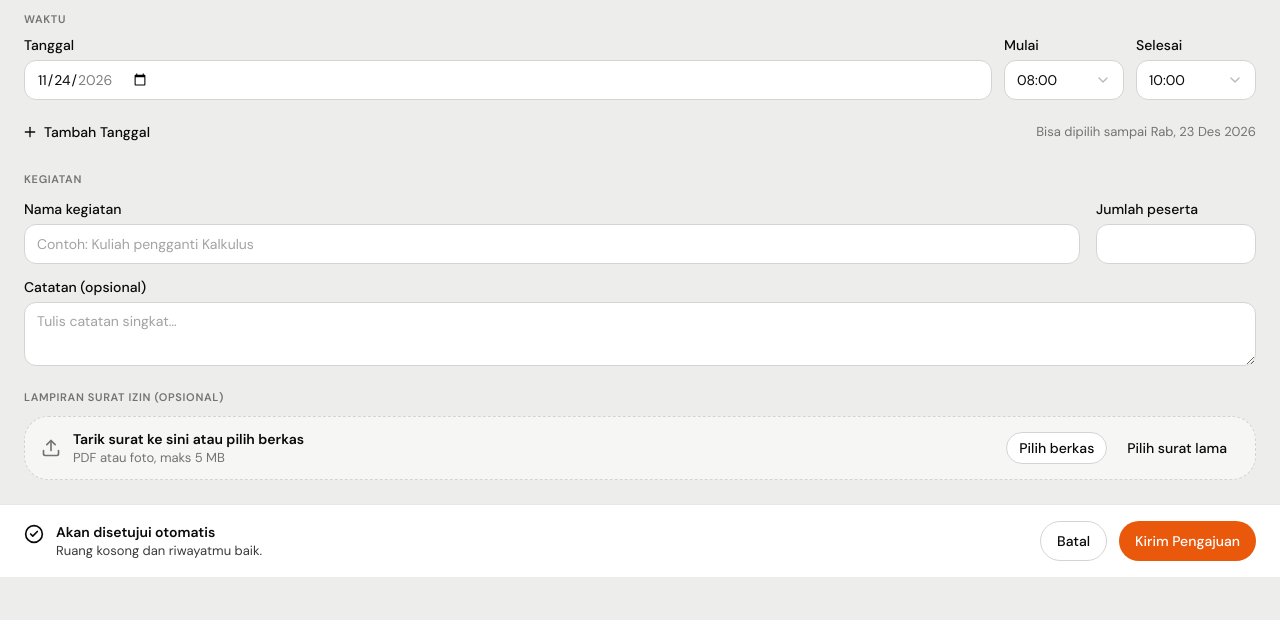
Scenario: RequestForm › sending › explains a 409 conflict with the room and the clashing time
In the field labelled "Nama kegiatan": (552, 244) [24,224,1080,264], type "Kuliah pengganti"
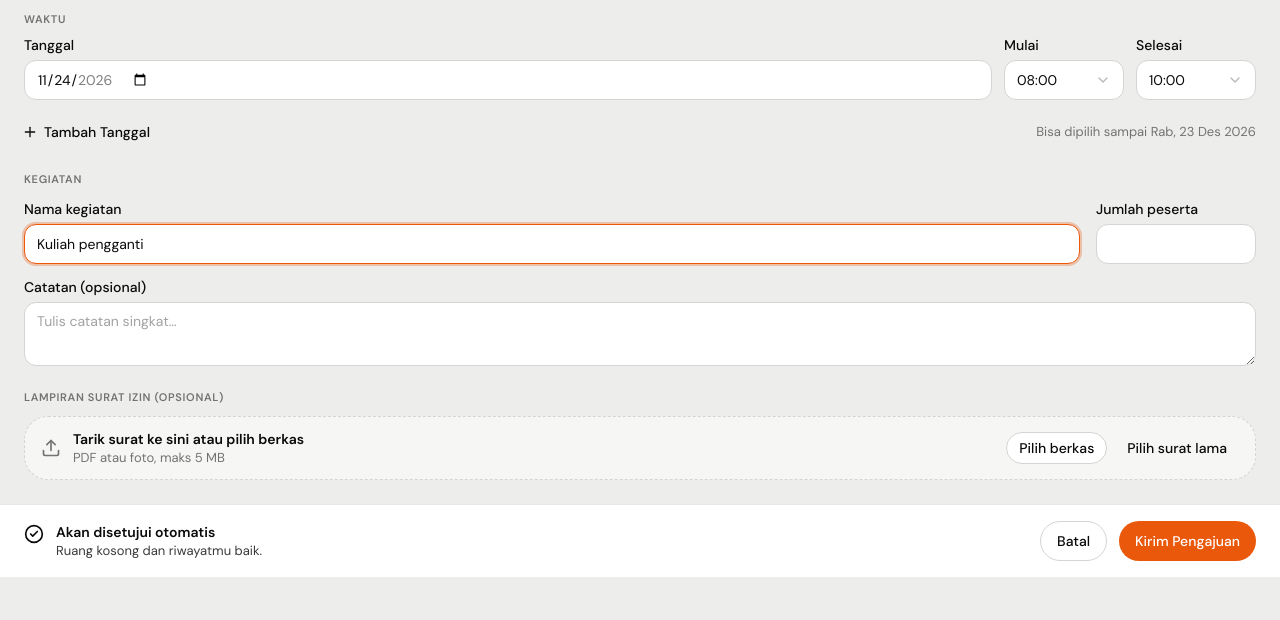
Click the button "Kirim Pengajuan": (1188, 541) [1119,521,1256,561]
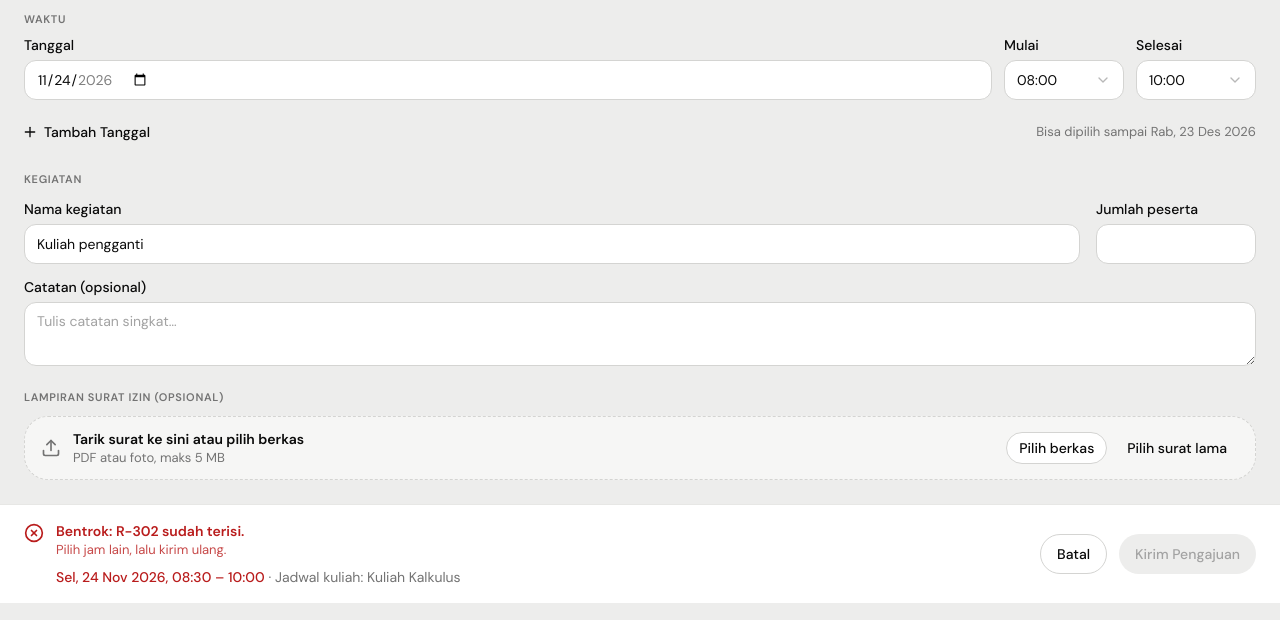
Now the text "Sel, 24 Nov 2026, 08:30 – 10:00" is shown, box [56,568,265,586]
Now the text "· Jadwal kuliah: Kuliah Kalkulus" is shown, box [268,568,461,586]
Now the button "Kirim Pengajuan" is disabled, box [1119,534,1256,574]
